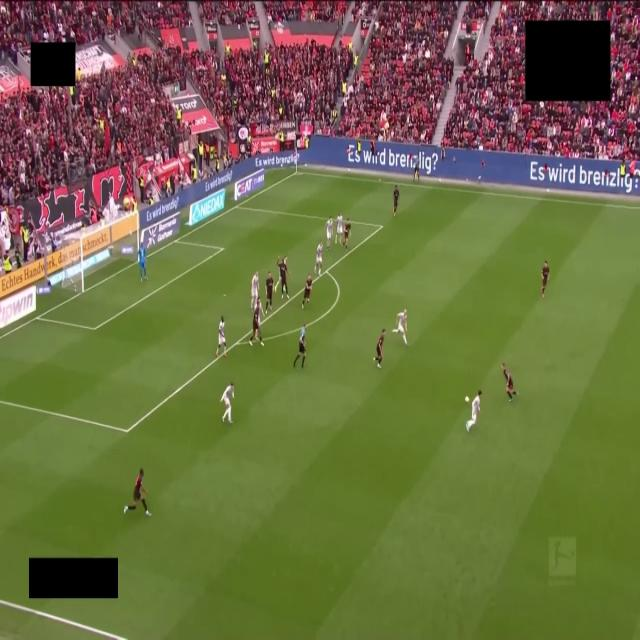ball: (465, 396, 469, 402)
player: (124, 468, 150, 516), (249, 297, 263, 345), (466, 391, 481, 431), (502, 363, 517, 401), (221, 383, 234, 423), (392, 310, 407, 344), (276, 256, 288, 298), (374, 329, 385, 367), (216, 317, 226, 357), (302, 275, 312, 309), (138, 245, 147, 282), (265, 272, 273, 313), (541, 261, 549, 298), (251, 272, 258, 311), (314, 241, 322, 275), (344, 218, 351, 249), (326, 216, 332, 250), (336, 214, 343, 243), (393, 185, 399, 216), (413, 156, 419, 182)
referee: (294, 324, 306, 367)
